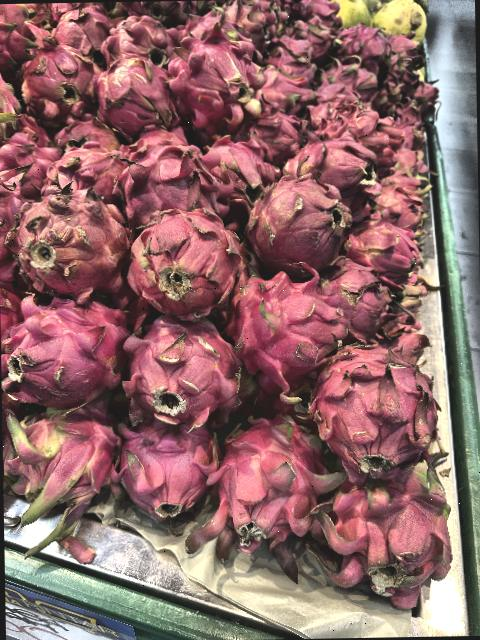buah-naga-belum-matang: (2, 408, 123, 520)
buah-naga-matang: (309, 341, 444, 478), (326, 466, 454, 606), (213, 420, 325, 559), (121, 304, 245, 428), (0, 290, 121, 403), (128, 207, 246, 317), (227, 277, 354, 371), (112, 416, 220, 521), (14, 194, 122, 290), (243, 179, 352, 267), (116, 141, 217, 226), (167, 38, 263, 127), (95, 58, 188, 136), (284, 134, 380, 202), (200, 137, 280, 207), (46, 140, 124, 204), (19, 56, 95, 116), (93, 15, 173, 71), (355, 225, 423, 288)
